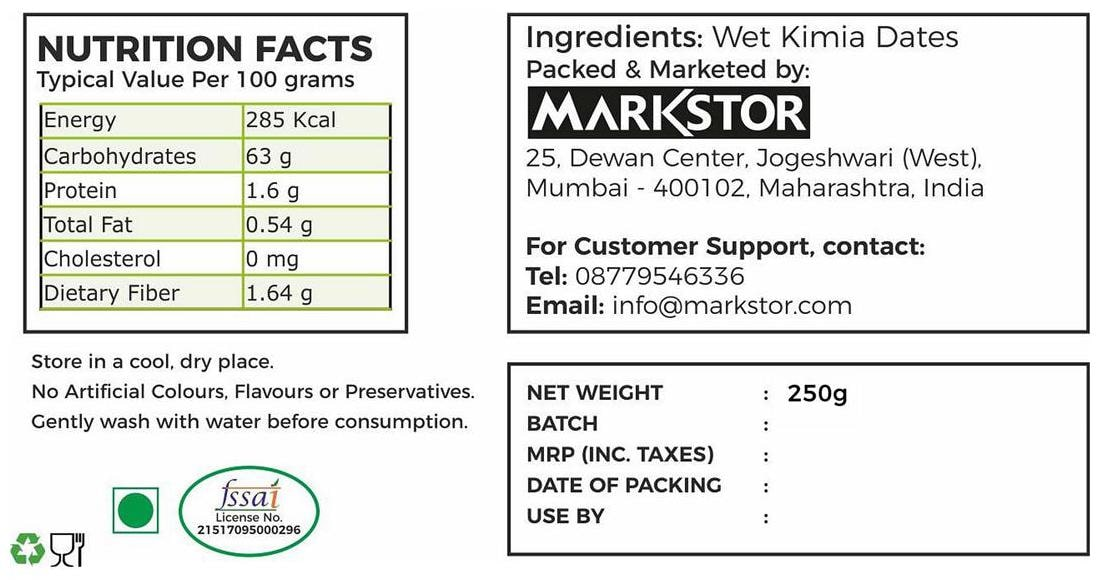fssai: (217, 478, 279, 511)
